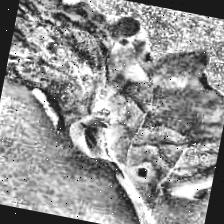disease: (0, 0, 224, 214)
